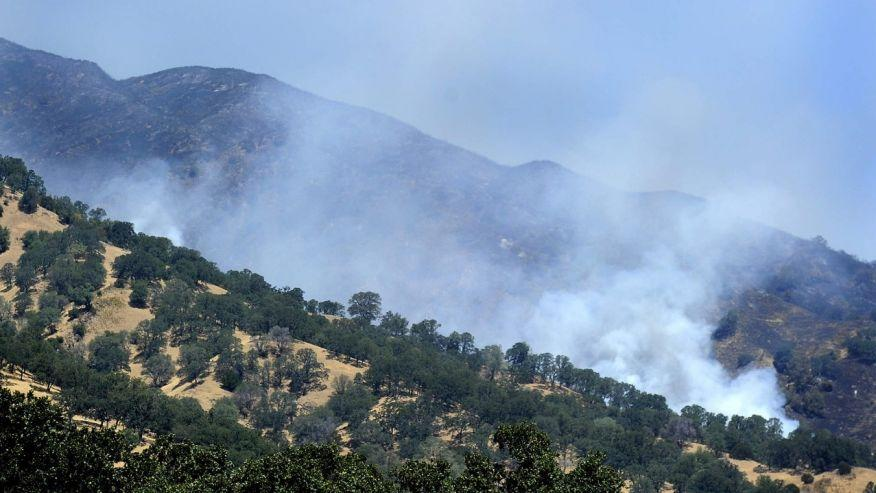smoke: (533, 278, 701, 350)
